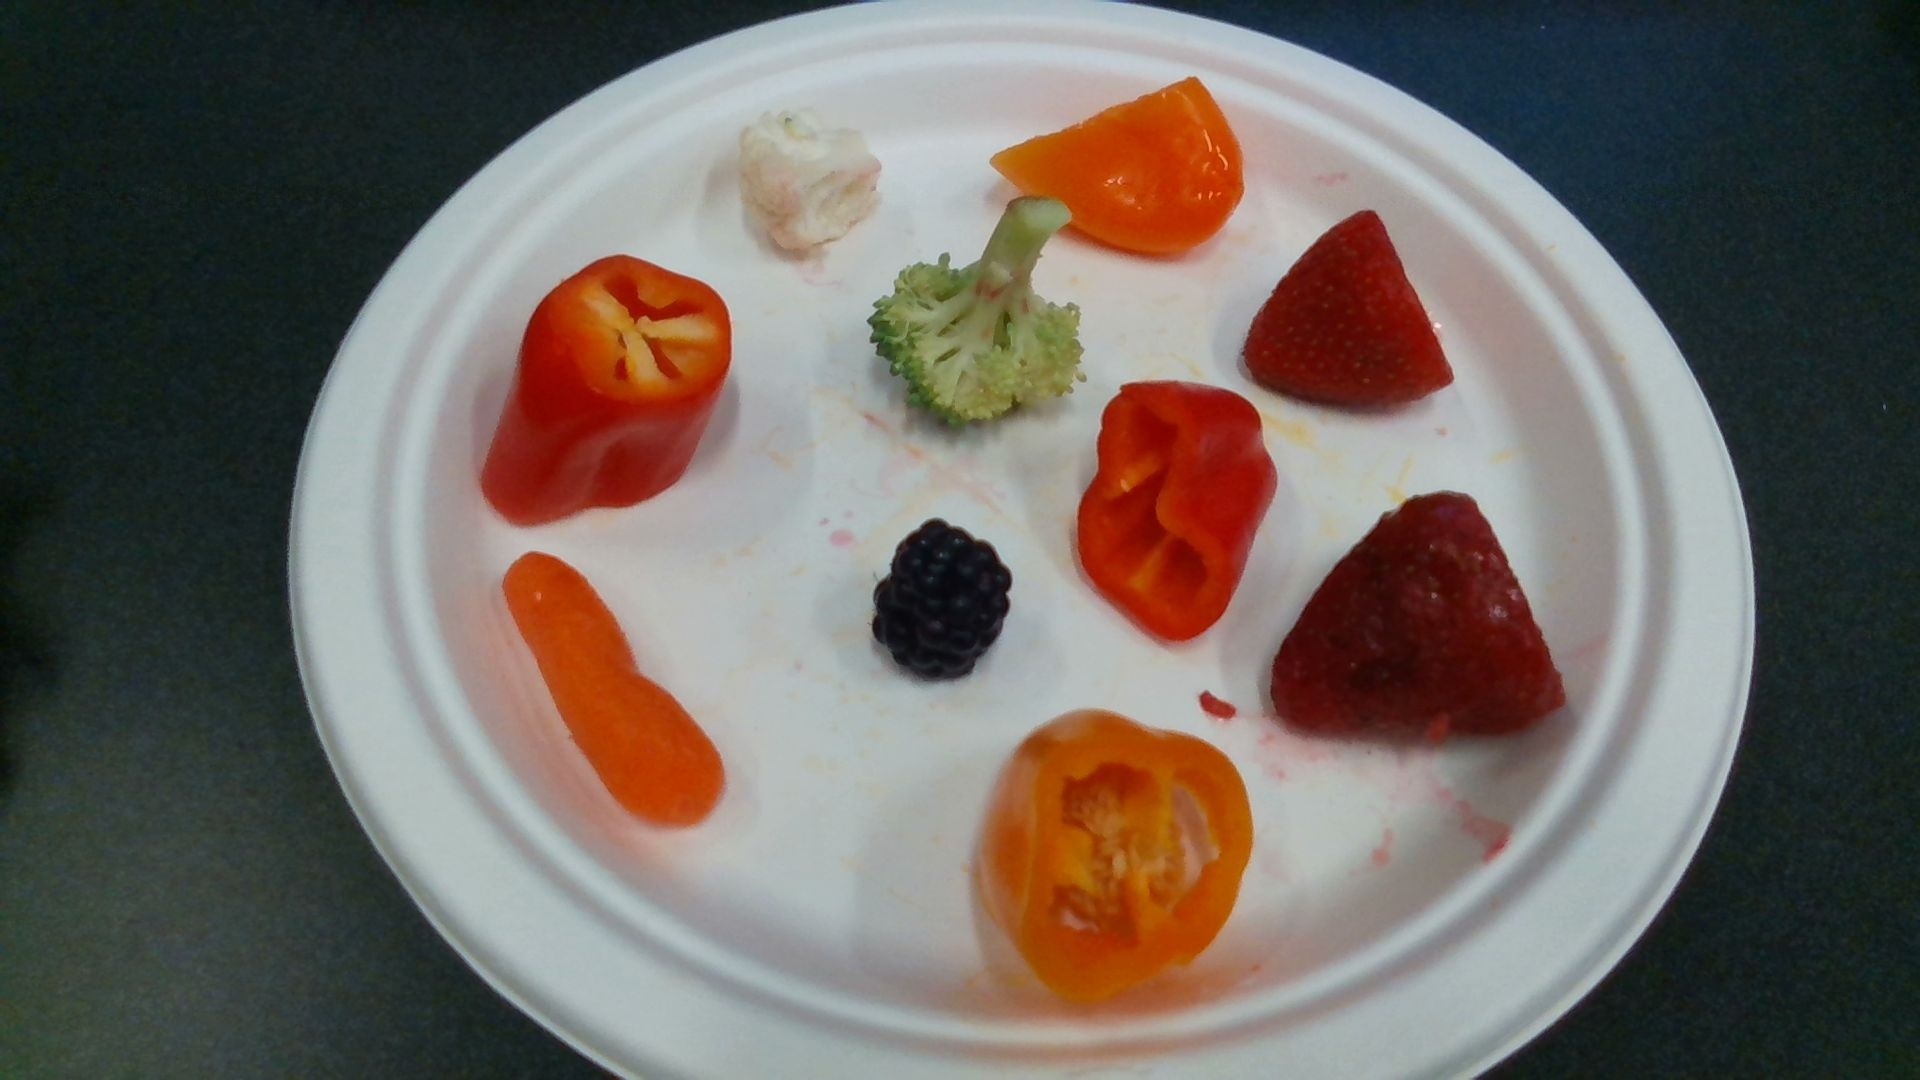bell_pepper: (984, 713, 1250, 1005), (484, 260, 731, 526), (1077, 386, 1276, 641), (989, 76, 1244, 260)
blackberry: (872, 524, 1010, 680)
broccoli: (876, 200, 1083, 421)
carrot: (504, 551, 724, 828)
cauliflower: (744, 115, 880, 251)
strawberry: (1273, 496, 1559, 746), (1245, 211, 1455, 405)
